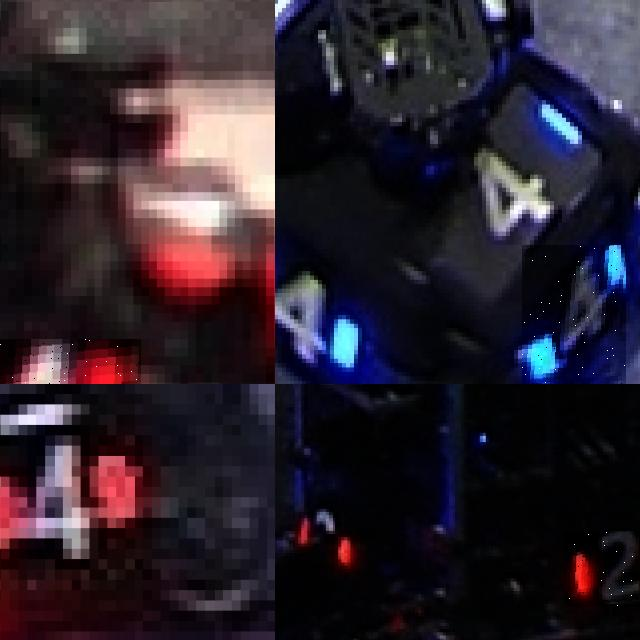B4: (522, 244, 626, 384), (275, 240, 358, 371)
R2: (564, 531, 640, 607), (292, 499, 354, 563)
R4: (0, 435, 151, 569)
